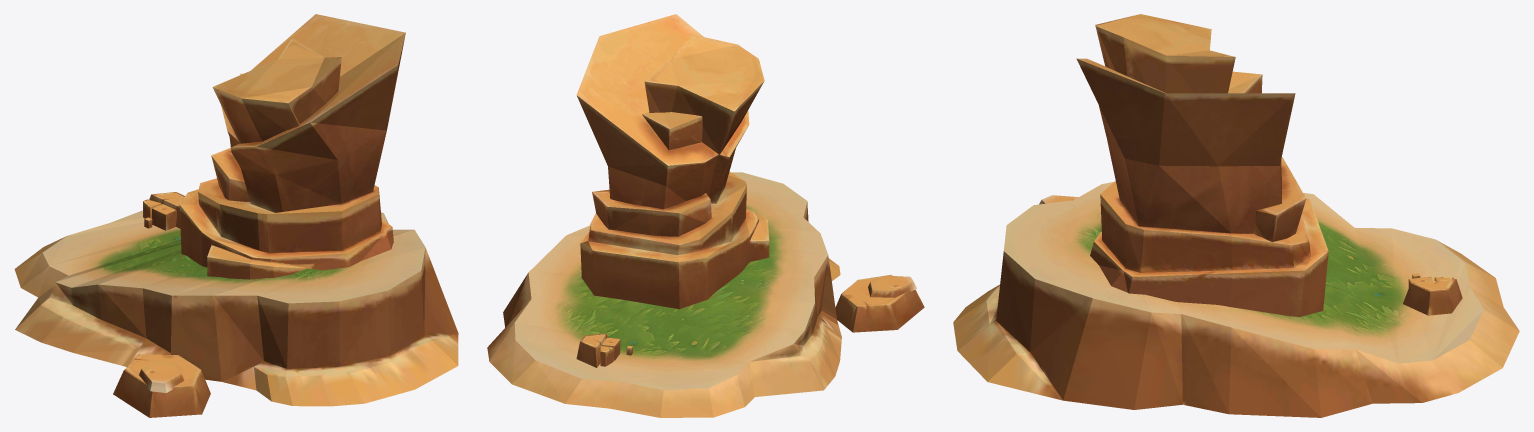
File: shatan_shishan01.fbx
3 renders of one model, left to right at view 1: azimuth 30°, elevation 25°; view 2: azimuth 150°, elevation 25°; view 3: azimuth 270°, elevation 25°, orthographic. The views are drawn at different scales.
Visible parts, largest first — view 1: shatan_shishan01; view 2: shatan_shishan01; view 3: shatan_shishan01.
Part boxes in pixels (x1=…): shatan_shishan01: x1=14, y1=14, x2=458, y2=417; shatan_shishan01: x1=487, y1=14, x2=924, y2=417; shatan_shishan01: x1=953, y1=14, x2=1519, y2=417.
Bounding box in the file's own units: 7.05 × 5.2 × 8.51.
